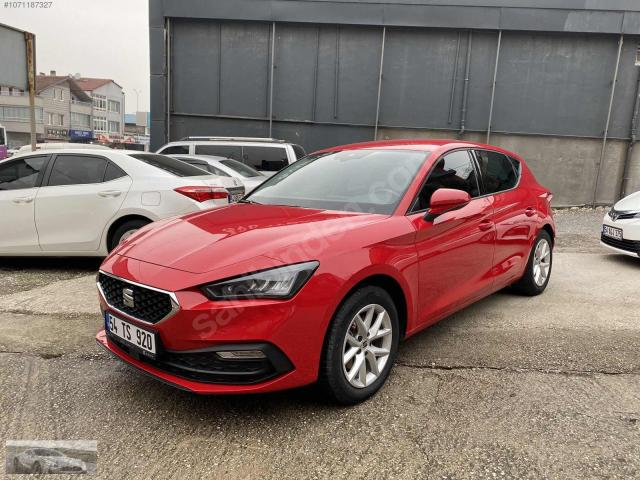plaka: (106, 312, 156, 355)
